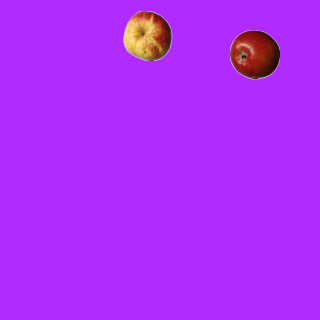Apple Braeburn: (229, 29, 279, 79)
Apple Red Yellow 1: (122, 10, 172, 60)
